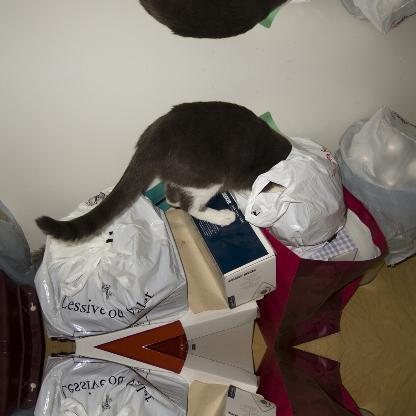Cat: (33, 98, 287, 240), (33, 0, 288, 41)
